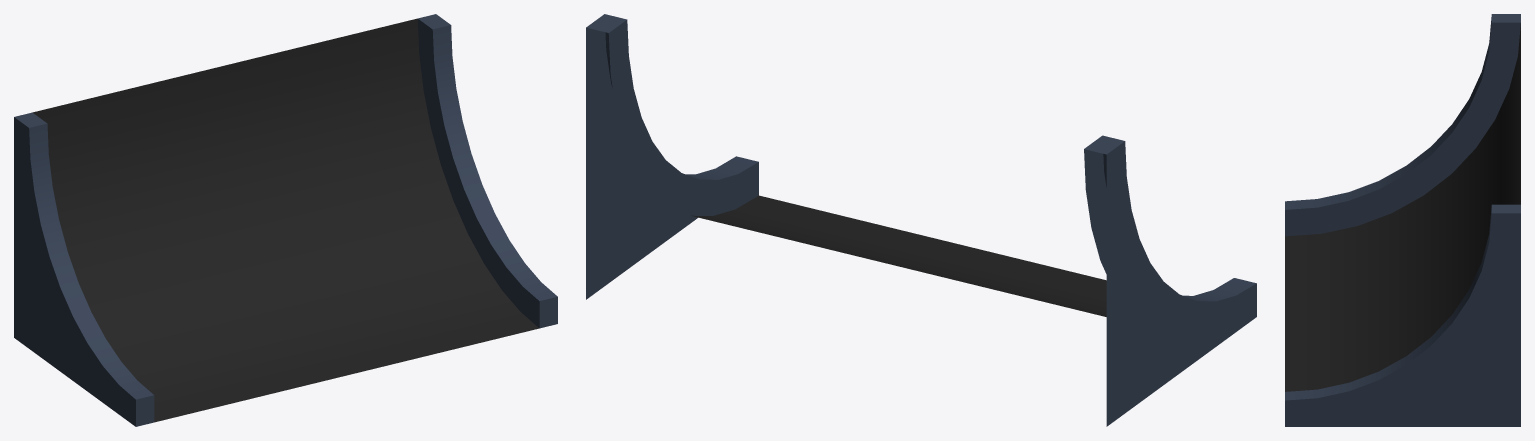
The model's file is ramp.fbx.
3 views of the same model, side by side, from view 1: azimuth 30°, elevation 25°; view 2: azimuth 150°, elevation 25°; view 3: azimuth 270°, elevation 25° (orthographic). The views are drawn at different scales.
Parts seen in each view (by area): view 1: Plane.005; view 2: Plane.005; view 3: Plane.005.
Part boxes in pixels (x1=…): Plane.005: x1=14, y1=14, x2=557, y2=426; Plane.005: x1=586, y1=14, x2=1256, y2=426; Plane.005: x1=1285, y1=14, x2=1520, y2=426.
Size of the model in its own units: 200 by 100 by 100.
